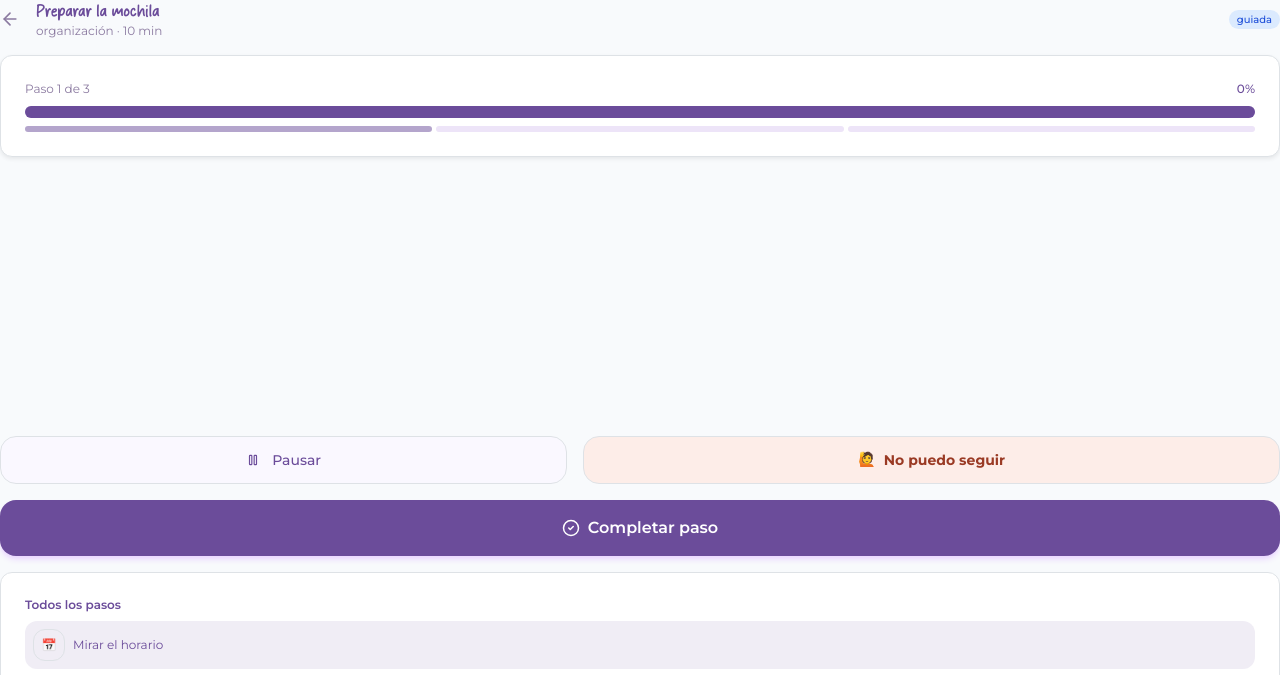
Test: No puedo seguir › abre la hoja con las opciones, incluida la pausa
Click the button "🙋 No puedo seguir" at (932, 460), box [583, 436, 1279, 484]
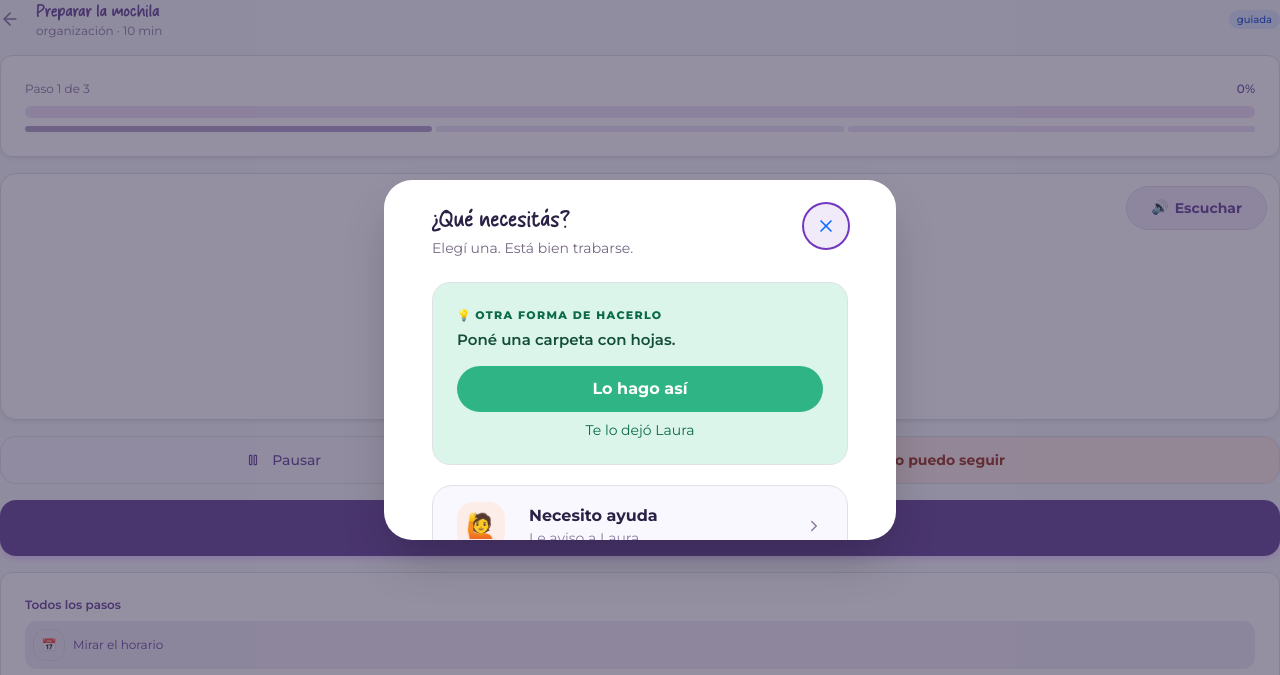
Expected: the heading "¿Qué necesitás?" is shown, [432, 204, 570, 234]
Expected: the text "Le aviso a Laura" is shown, [529, 529, 639, 540]
Expected: the text "Te lo dejó Laura" is shown, [586, 421, 694, 439]
